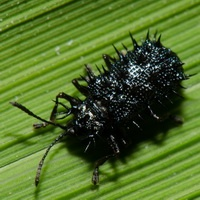insect: (10, 31, 188, 185)
